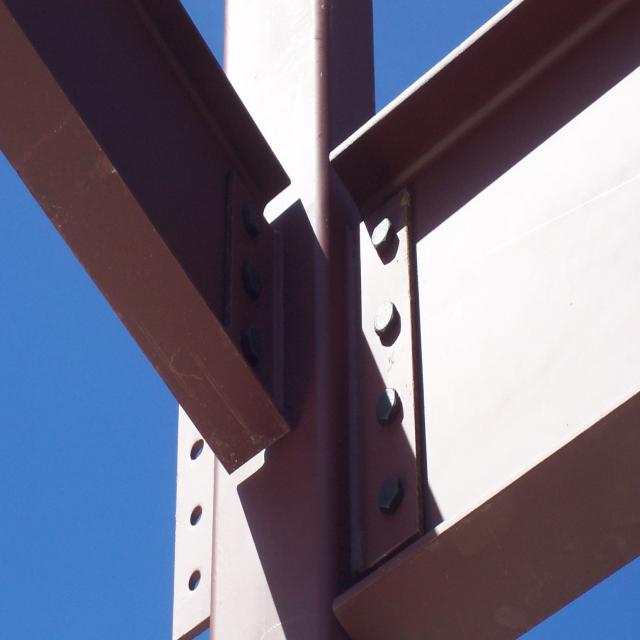blur bolt: (243, 319, 264, 367), (241, 256, 263, 300), (243, 197, 263, 239)
bolt head: (376, 474, 404, 516), (372, 300, 398, 340), (376, 387, 400, 428), (371, 218, 395, 255)
